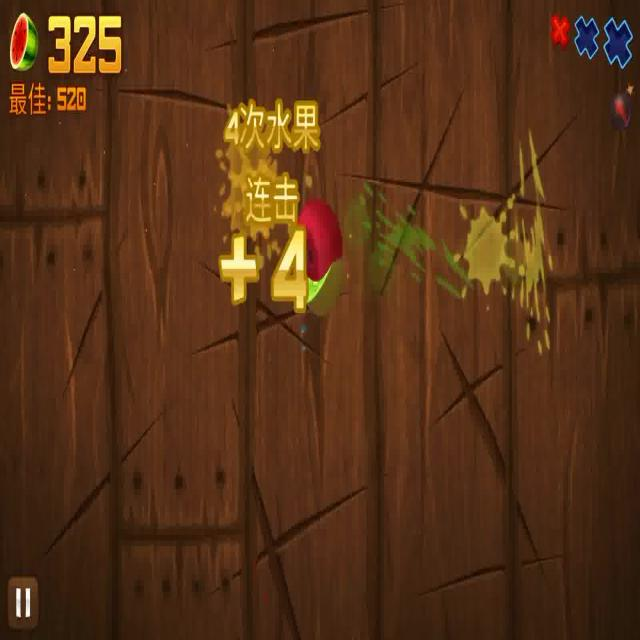fruit: (293, 192, 355, 274), (278, 261, 355, 322)
